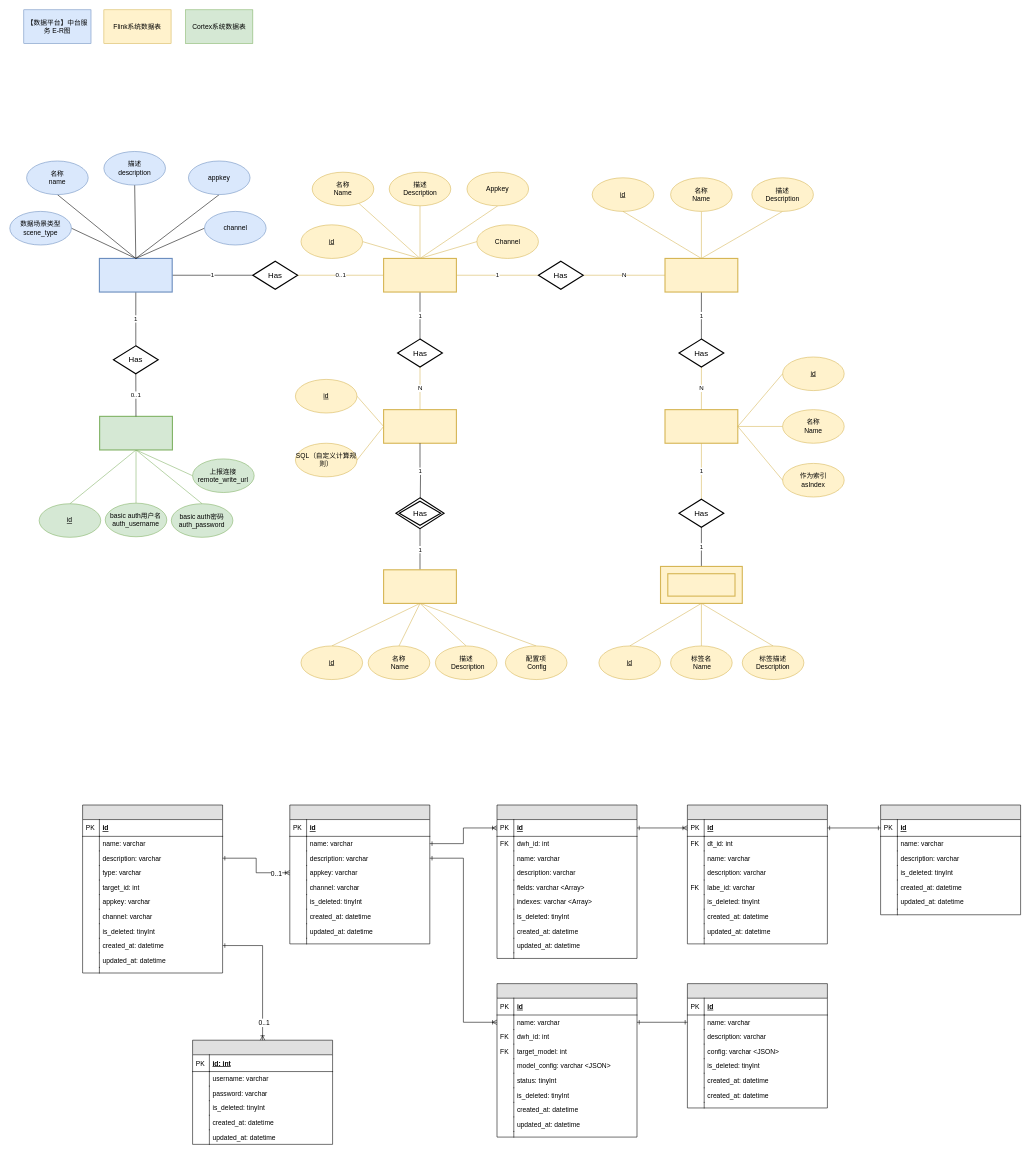
This 1030x1156 diagram has some shape labels left out. The box of each missing label's shape, as (x1, y1, x2, y2) in pixels:
CortexTenants / 租户表: (192, 1040, 333, 1144)
DataTables/ 数表表: (496, 804, 637, 958)
DataWareHouses/ 数仓表: (289, 804, 430, 944)
FiledLabels/ 字段标签表（可选）: (880, 804, 1021, 915)
Fileds/ 字段表（可选）: (687, 804, 827, 944)
Projects/ 项目表: (82, 804, 223, 973)
Statistics/ 统计表: (496, 983, 637, 1137)
StatsModels/ 统计模型表（可选）: (687, 983, 827, 1108)
字段标签 FieldLabel: (660, 566, 743, 604)
数仓 DataWarehouse: (383, 258, 457, 292)
数表 DataTable: (664, 258, 738, 292)
租户 cortex_tenant: (99, 416, 173, 450)
统计 Statistics: (383, 409, 457, 444)
统计模型 StatsModel: (383, 569, 457, 604)
表字段 TableField: (664, 409, 738, 444)
项目 project: (99, 258, 172, 292)
